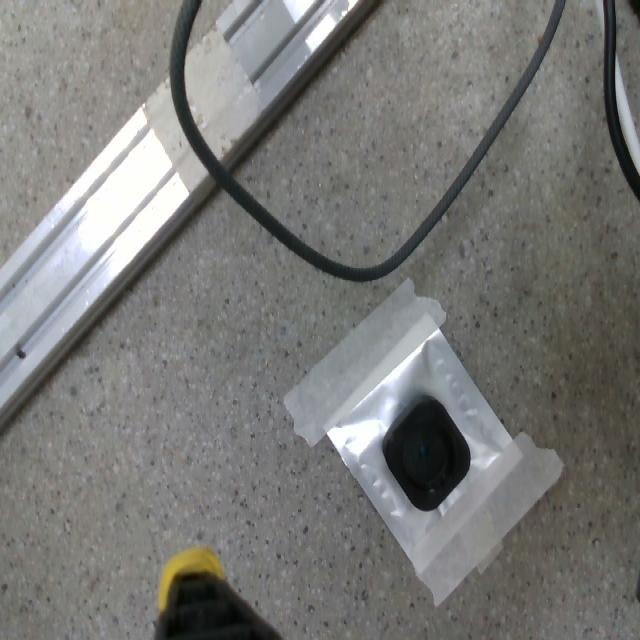cell: (383, 395, 471, 509)
